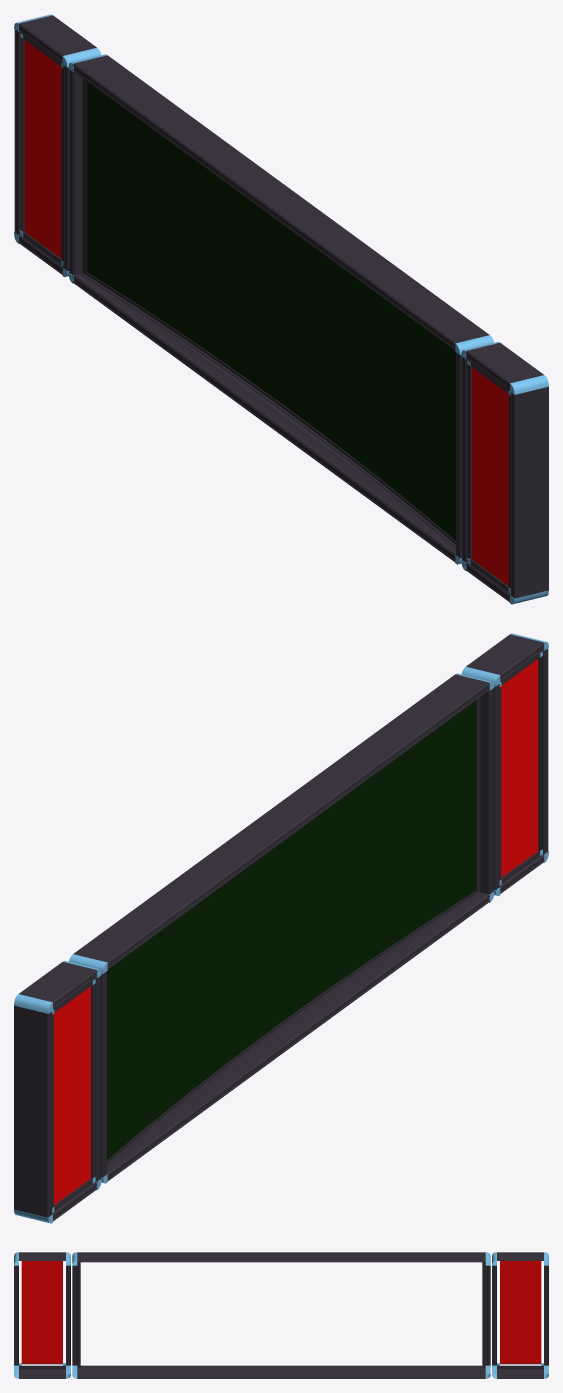
Rendered from blackboard.fbx.
3 renders of one model, top to bottom at view 1: azimuth 30°, elevation 25°; view 2: azimuth 150°, elevation 25°; view 3: azimuth 270°, elevation 25°, orthographic. The views are drawn at different scales.
Parts seen in each view (by area): view 1: Object020; view 2: Object020; view 3: Object020.
Boxes of the visible parts, left/top/right/bottom form: Object020: left=14, top=14, right=548, bottom=604; Object020: left=14, top=633, right=548, bottom=1223; Object020: left=14, top=1252, right=548, bottom=1378.
Bounding box in the file's own units: 0.2165 × 1.32 × 5.44.
